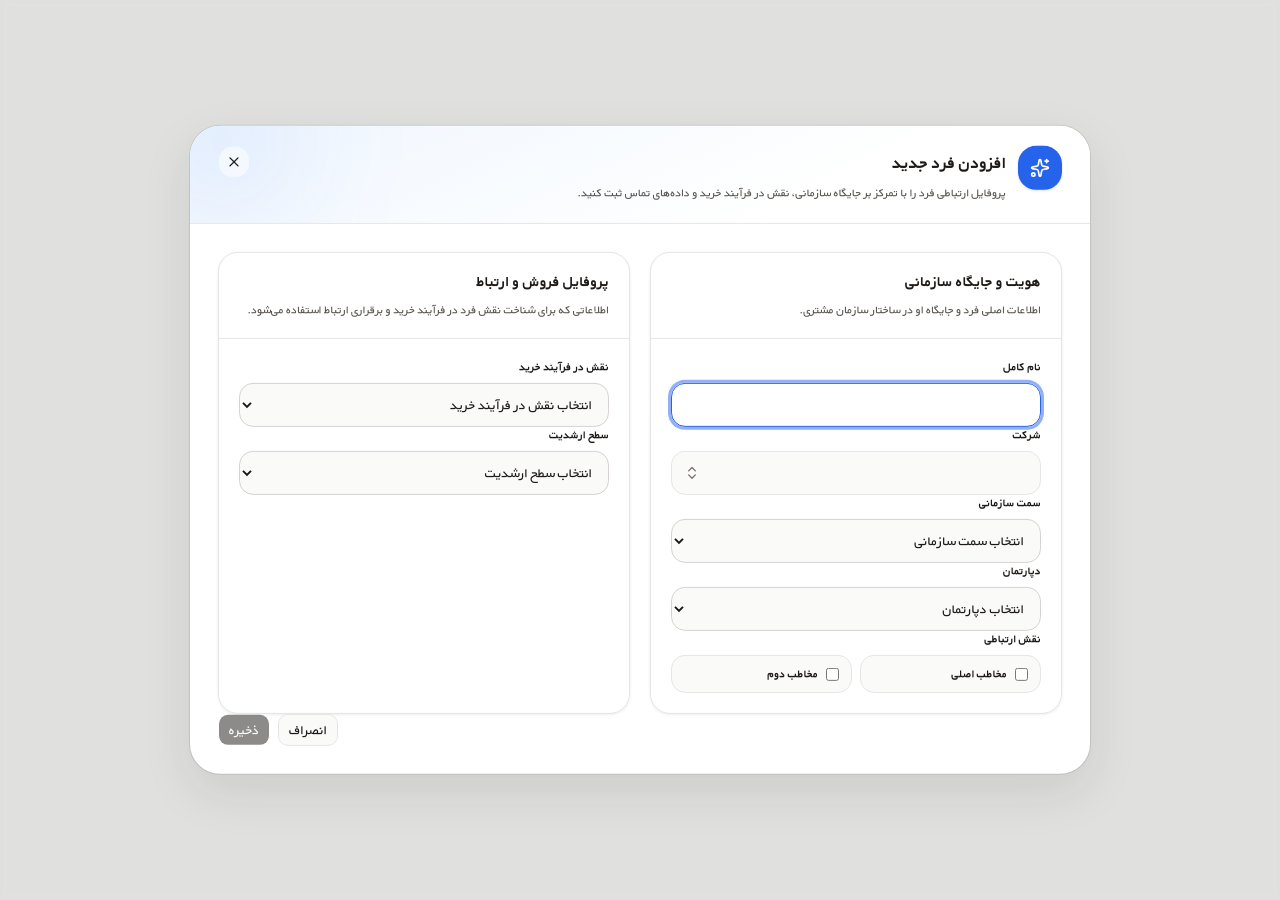
Test: Person form preserves company and maps server field errors to the name field
Type "شخص نمونه" into the field labelled "نام کامل" at point(856, 405), box [671, 383, 1041, 427]
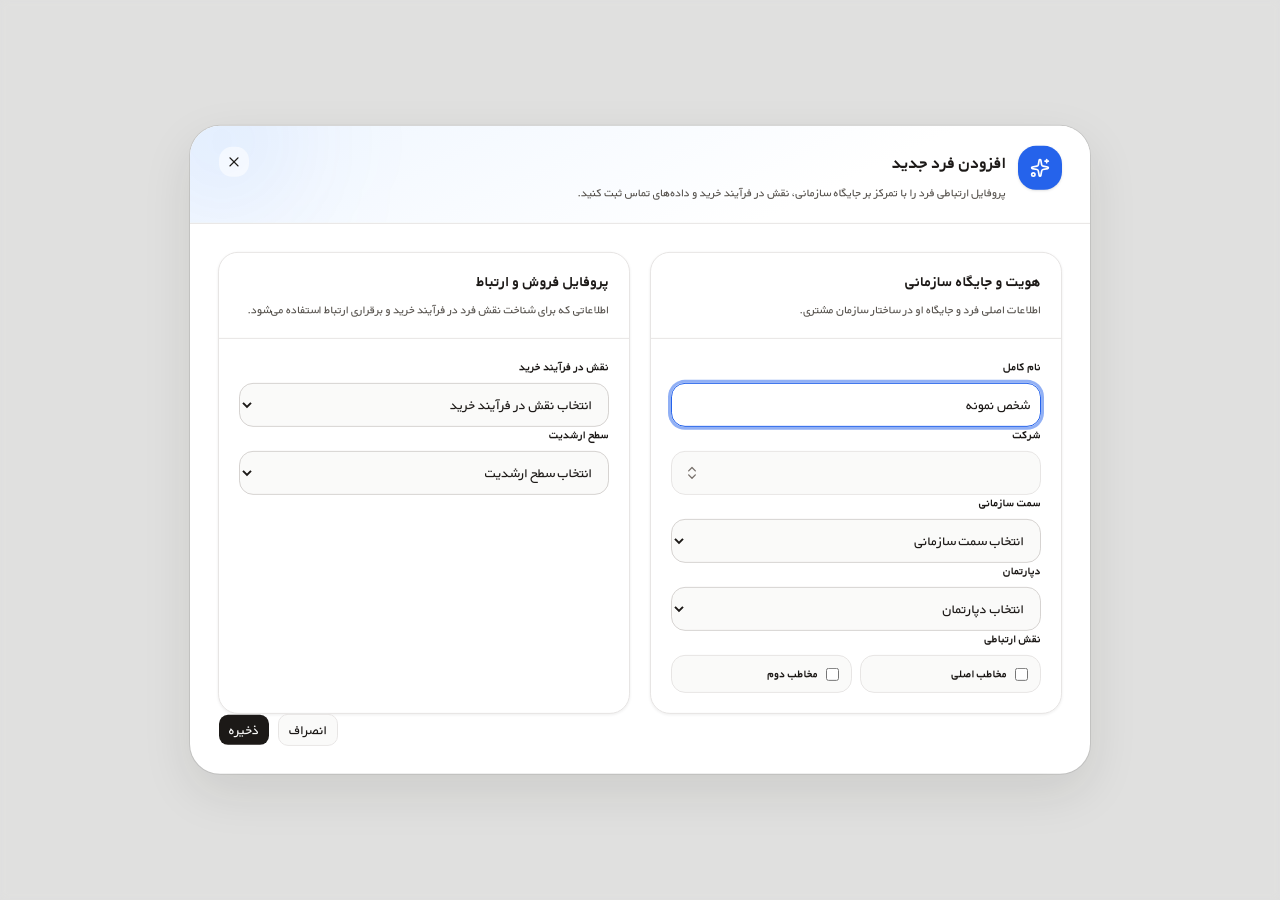
Click the button "ذخیره" at point(244, 730), box [218, 714, 270, 746]
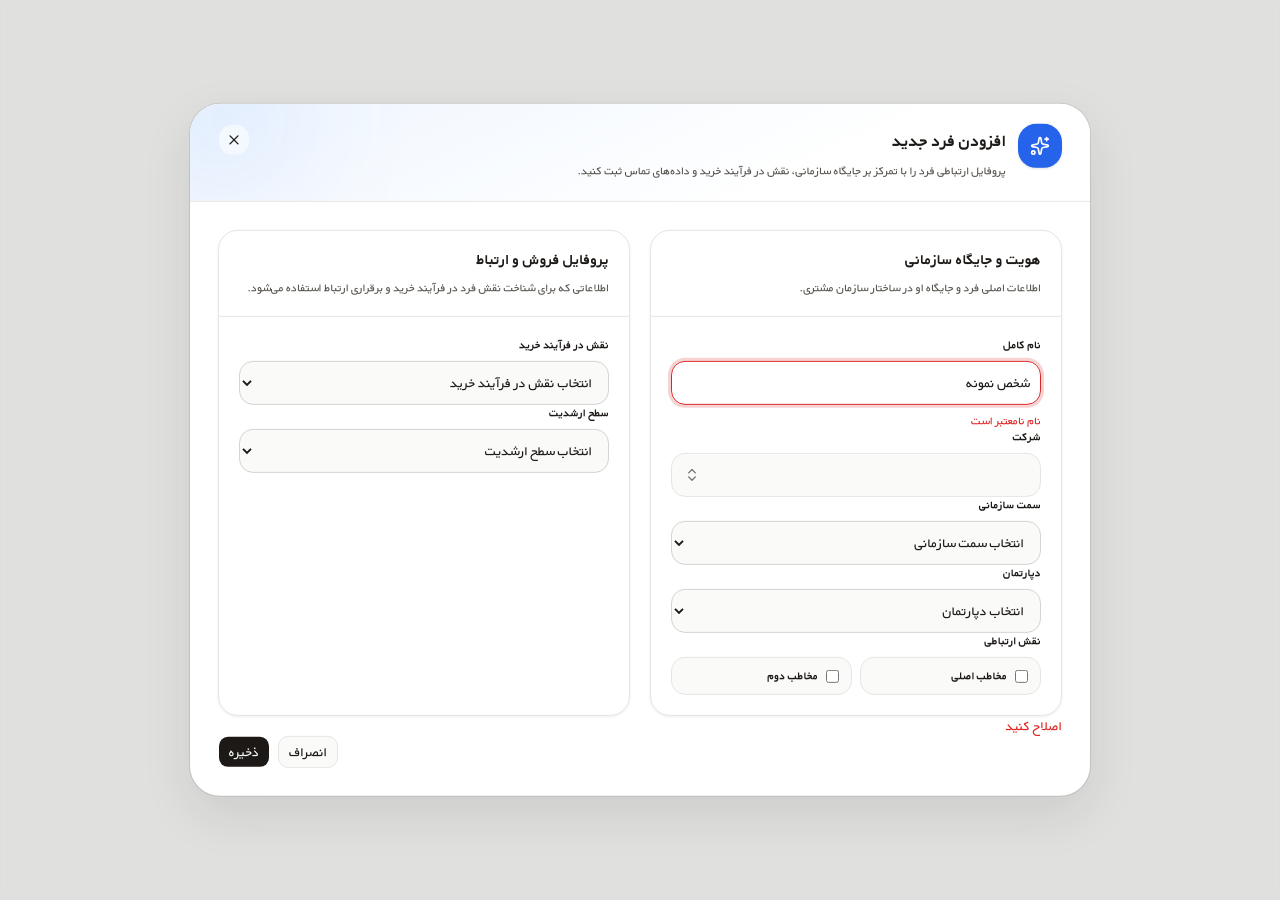
Expected: the text "نام نامعتبر است" is shown, [971, 412, 1041, 429]
